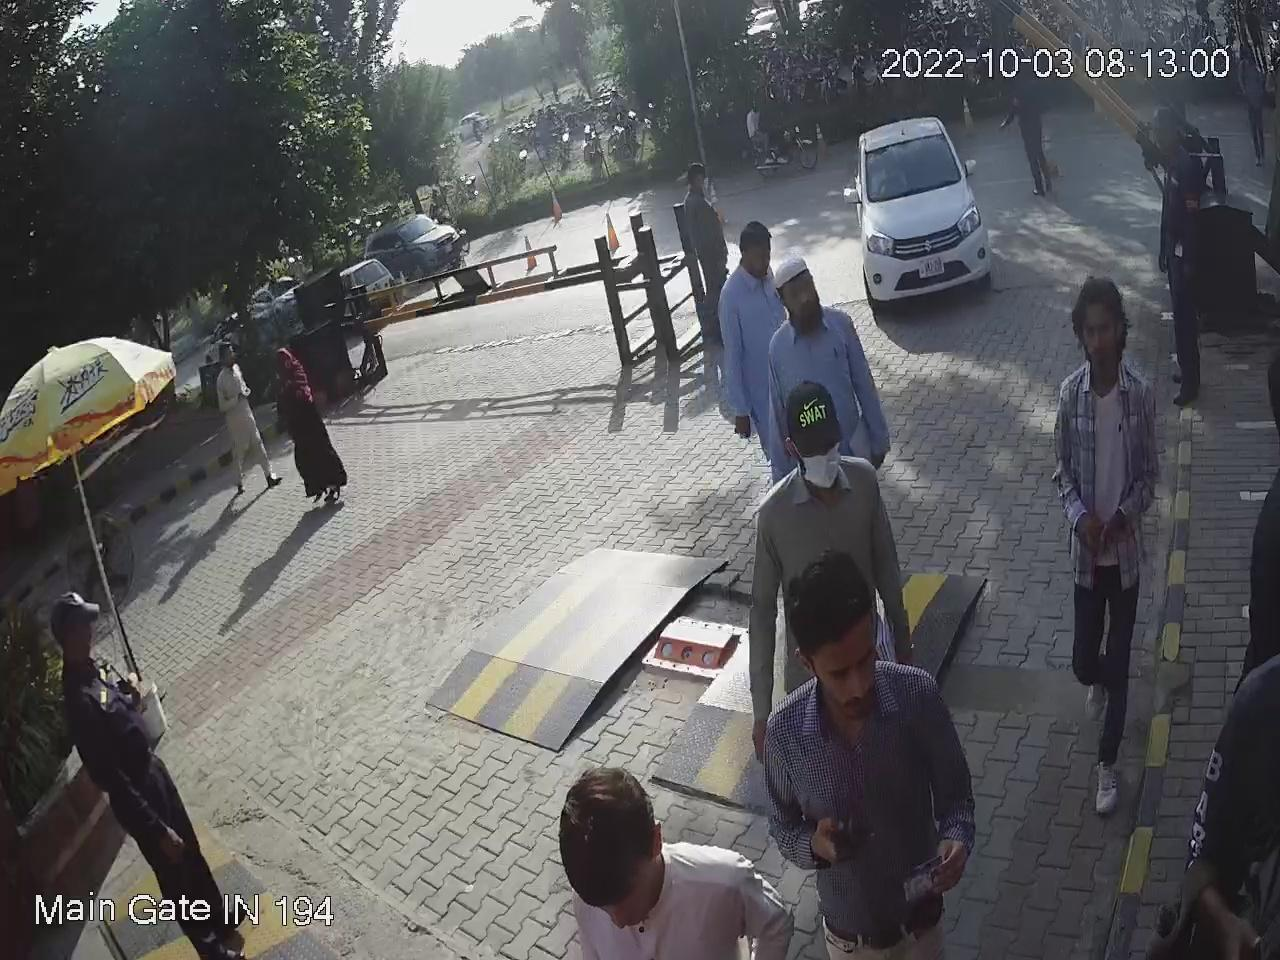windshield: (861, 125, 957, 203)
